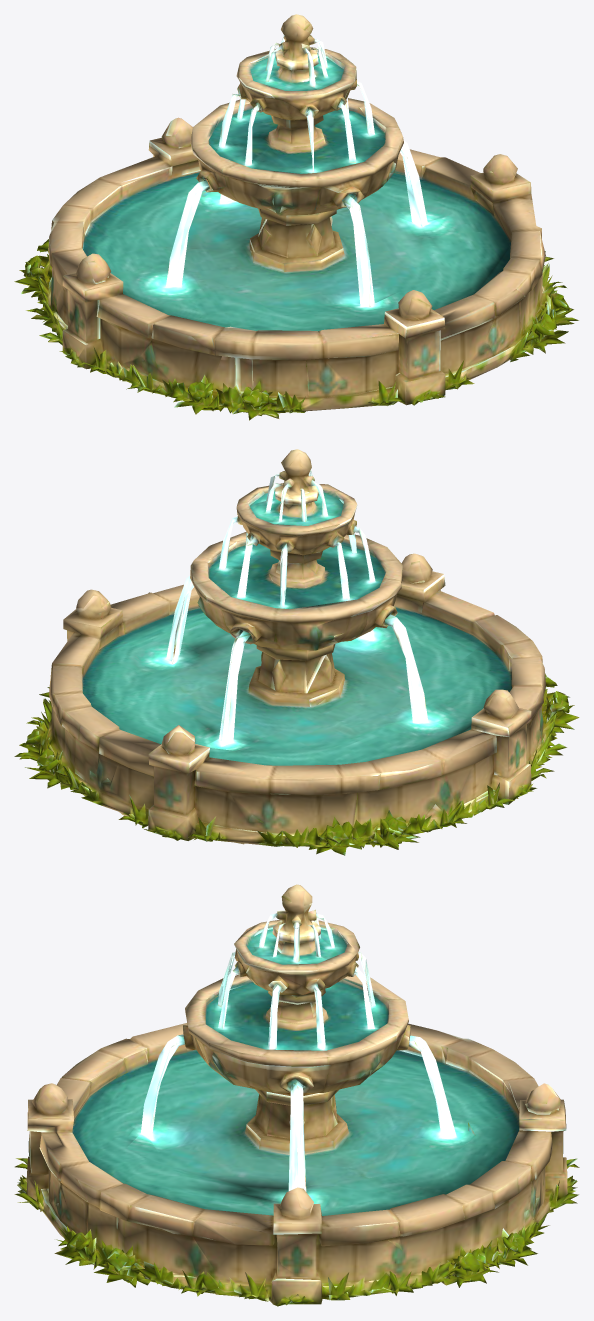
Rendered from fountain.glb.
The picture shows the model from 3 angles, top to bottom: view 1: azimuth 30°, elevation 25°; view 2: azimuth 150°, elevation 25°; view 3: azimuth 270°, elevation 25°; orthographic projection. The views are drawn at different scales.
Visible parts, largest first — view 1: Mesh1.0; view 2: Mesh1.0; view 3: Mesh1.0.
Part boxes in pixels (left/top/right/bottom): Mesh1.0: left=14, top=14, right=578, bottom=420; Mesh1.0: left=14, top=449, right=579, bottom=855; Mesh1.0: left=14, top=884, right=579, bottom=1306.
Size of the model in its own units: 1.9 by 1.15 by 1.9.
1 material, 1 textured.
